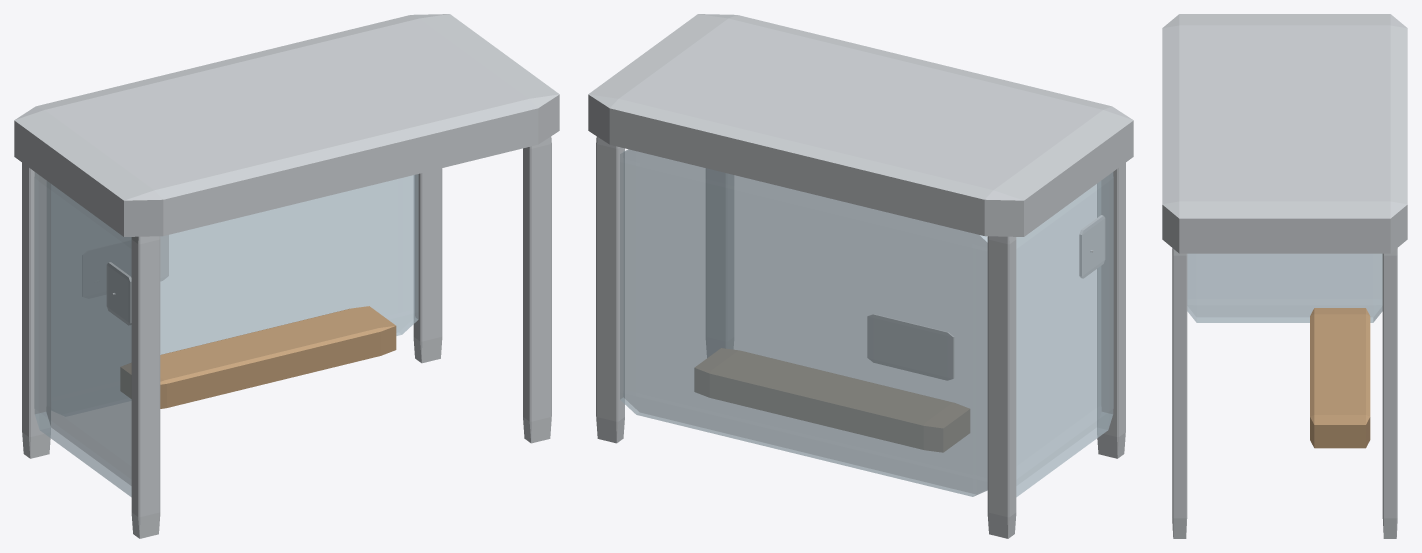
The model's file is b01_glass_flat_roof_bus_shelter.glb.
The picture shows the model from 3 angles, left to right: view 1: azimuth 30°, elevation 25°; view 2: azimuth 150°, elevation 25°; view 3: azimuth 270°, elevation 25°; orthographic projection. The views are drawn at different scales.
Visible parts, largest first — view 1: b01_glass_flat_roof_bus_shelter; view 2: b01_glass_flat_roof_bus_shelter; view 3: b01_glass_flat_roof_bus_shelter.
Boxes of the visible parts, <box> form: b01_glass_flat_roof_bus_shelter: <box>14,14,559,538</box>; b01_glass_flat_roof_bus_shelter: <box>588,14,1133,538</box>; b01_glass_flat_roof_bus_shelter: <box>1162,14,1407,538</box>.
Bounding box in the file's own units: 3.45 × 2.59 × 1.75.
